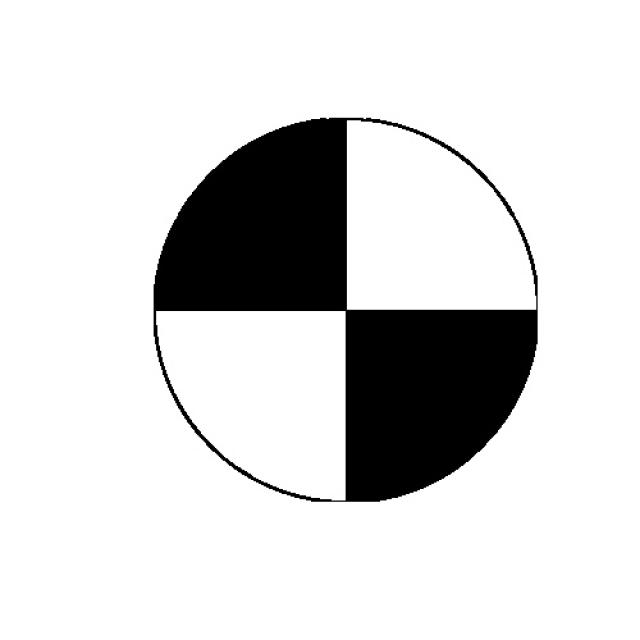Marcadores: (154, 118, 539, 503)
